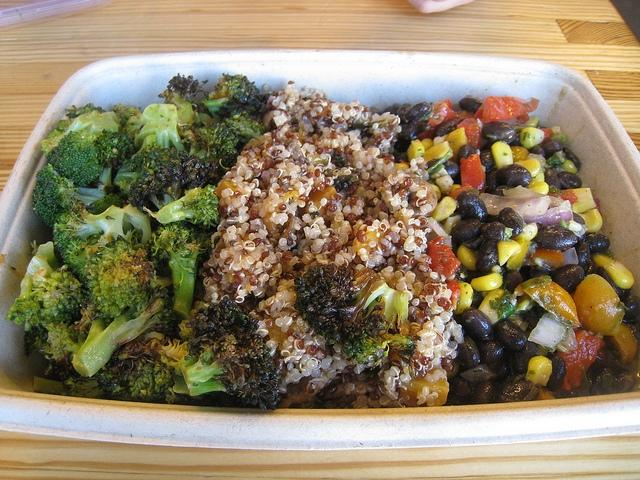broccoli: (293, 264, 419, 364), (172, 297, 282, 410), (72, 284, 182, 376), (80, 234, 172, 320), (94, 332, 198, 404), (53, 196, 135, 284), (170, 91, 240, 191), (5, 255, 89, 332), (148, 223, 206, 322), (112, 143, 181, 212), (32, 164, 106, 228), (40, 110, 122, 154), (143, 184, 220, 228), (46, 130, 104, 186), (122, 104, 186, 152), (201, 73, 261, 121), (37, 322, 85, 382), (220, 110, 266, 144), (24, 324, 48, 356)
corn: (592, 253, 634, 289), (525, 356, 553, 387), (444, 127, 468, 162), (429, 196, 456, 222), (452, 282, 473, 315), (578, 208, 603, 234), (498, 237, 520, 266), (470, 272, 503, 291), (491, 142, 513, 170), (572, 188, 596, 213), (423, 141, 450, 162), (520, 127, 544, 150), (458, 244, 478, 271), (514, 159, 540, 177), (407, 139, 425, 163), (526, 179, 550, 194)
tomato: (556, 328, 604, 391), (482, 96, 540, 123), (424, 235, 460, 278), (459, 153, 484, 190), (458, 118, 482, 150), (427, 103, 457, 128), (546, 189, 580, 210)
